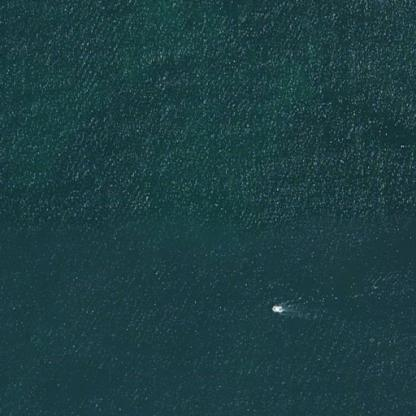ship: (269, 287, 285, 297)
